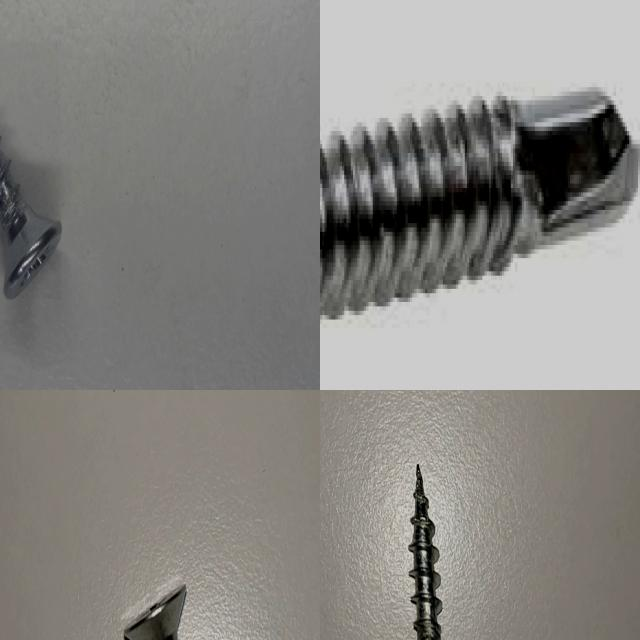Screw: (320, 92, 640, 324), (0, 148, 61, 298), (409, 463, 442, 640), (124, 584, 186, 640)
